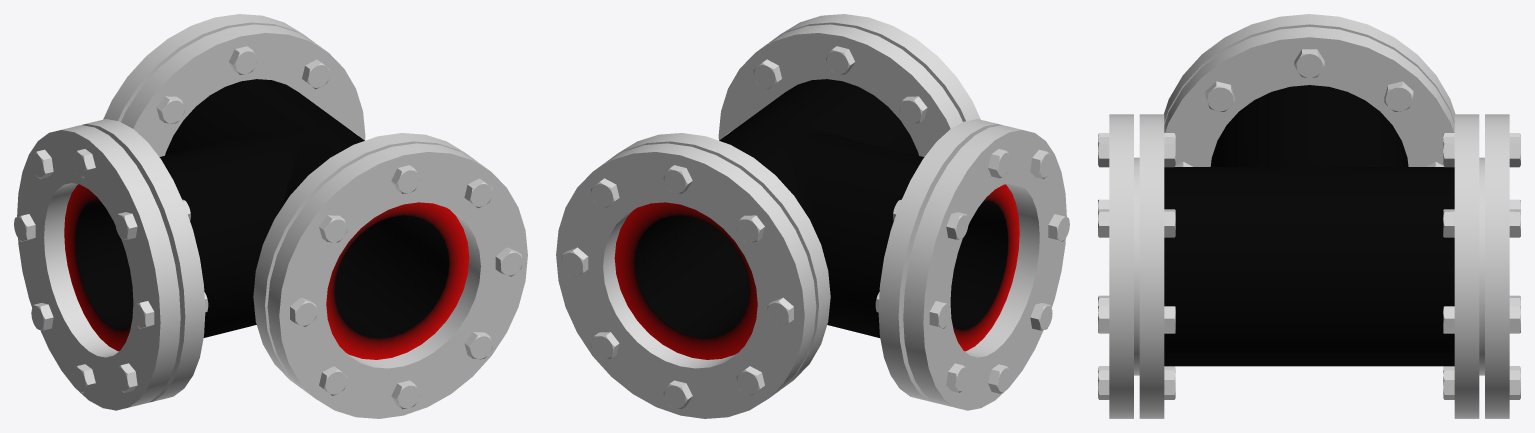
The model's file is Dungeon_Pipe_Tbolt.FBX.
3 views of the same model, side by side, from view 1: azimuth 30°, elevation 25°; view 2: azimuth 150°, elevation 25°; view 3: azimuth 270°, elevation 25° (orthographic). The views are drawn at different scales.
Parts seen in each view (by area): view 1: Tbolt; view 2: Tbolt; view 3: Tbolt.
Part boxes in pixels (<box>): Tbolt: <box>14,14,527,418</box>; Tbolt: <box>556,14,1069,418</box>; Tbolt: <box>1098,14,1520,418</box>.
Size of the model in its own units: 34.4 by 24.16 by 33.48.
